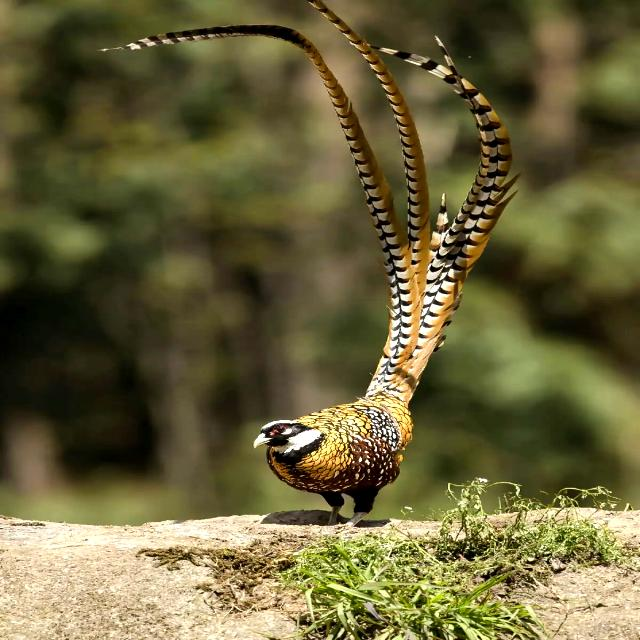Reeves-s Pheasant: (95, 0, 520, 403)
